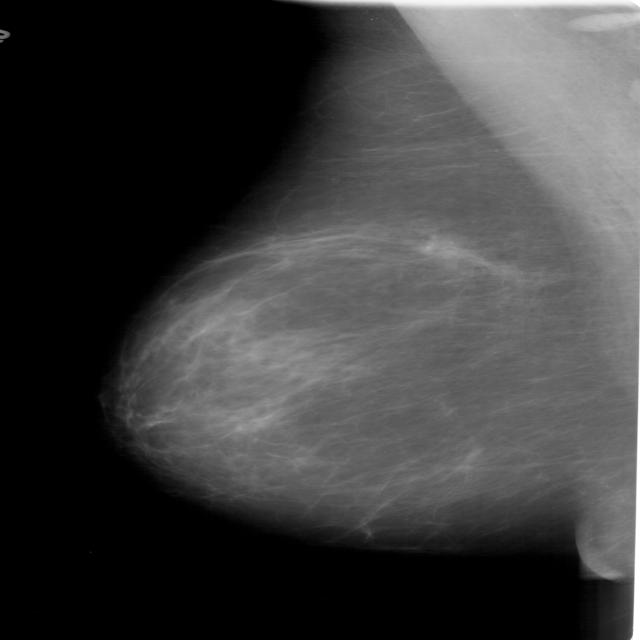cancer: (164, 290, 364, 486), (282, 196, 512, 282)
